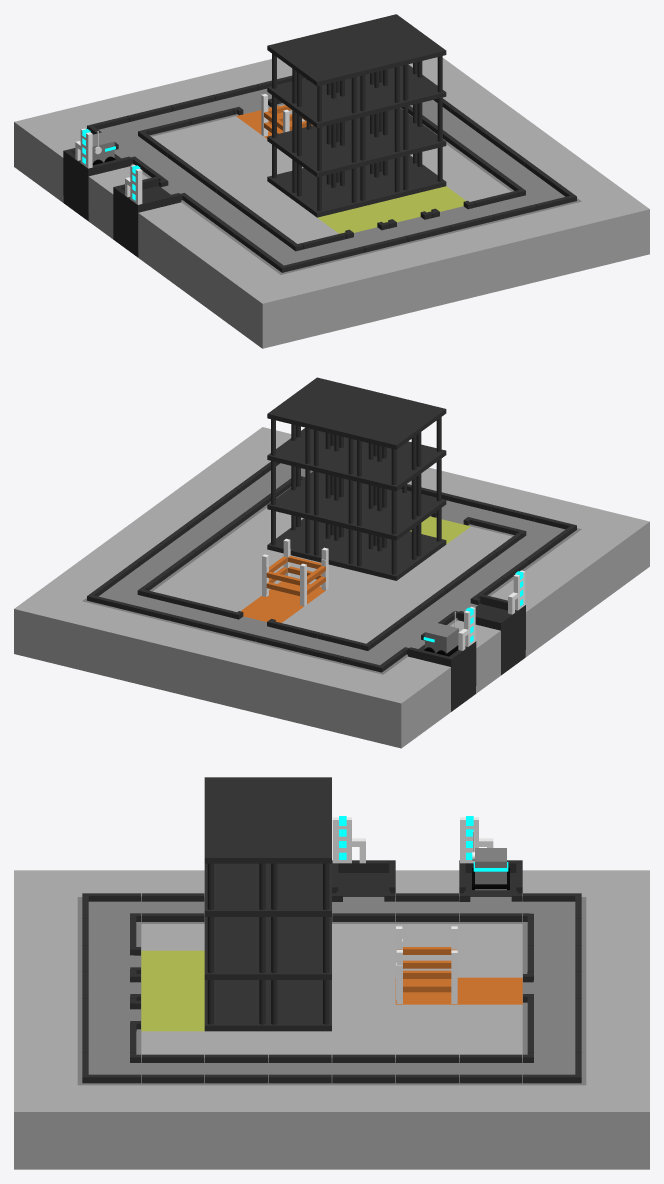
File: MiniWarehouseScene.gltf
The picture shows the model from 3 angles, top to bottom: view 1: azimuth 30°, elevation 25°; view 2: azimuth 150°, elevation 25°; view 3: azimuth 270°, elevation 25°; orthographic projection. The views are drawn at different scales.
Visible parts, largest first — view 1: Cube (7) (×6), Cube (2) (×4), Cube (5) (×4), Cube (×4), FloorCell (85), FloorCell (61), FloorCell (66), FloorCell (64), FloorCell (63), FloorCell (62), FloorCell (67), FloorCell (68) (+62 smaller); view 2: Cube (7) (×6), Cube (2) (×4), FloorCell (80), Cube (5) (×4), Cube (×4), FloorCell (5), FloorCell (6), FloorCell (3), FloorCell (4), FloorCell (7), FloorCell (2), FloorCell (1) (+67 smaller); view 3: Cube (7) (×6), Cube (2) (×4), Cube (5) (×4), Cube (×4), Rail1 (×9), FloorCell (8), FloorCell (48), FloorCell (53), FloorCell (31), FloorCell, FloorCell (40), FloorCell (74) (+76 smaller).
Part boxes in pixels (x1,y1,x2,y2): Cube (7) (×6): (267,14,446,86); Cube (2) (×4): (267,124,446,177); Cube (5) (×4): (267,75,446,127); Cube (×4): (267,164,446,217); FloorCell (85): (237,275,305,348); FloorCell (61): (324,254,391,327); FloorCell (66): (453,222,520,295); FloorCell (64): (410,233,477,306); FloorCell (63): (367,243,434,316); FloorCell (62): (281,264,348,337); FloorCell (67): (539,201,606,275); FloorCell (68): (582,191,649,264); Cube (7) (×6): (267,377,446,449); Cube (2) (×4): (267,487,446,540); FloorCell (80): (358,675,426,748); Cube (5) (×4): (267,438,446,491); Cube (×4): (267,528,446,580); FloorCell (5): (229,643,296,716); FloorCell (6): (315,664,382,737); FloorCell (3): (143,622,210,695); FloorCell (4): (186,633,253,706); FloorCell (7): (272,654,339,727); FloorCell (2): (100,612,167,685); FloorCell (1): (57,601,124,674); Cube (7) (×6): (204,777,331,863); Cube (2) (×4): (204,920,331,979); Cube (5) (×4): (204,863,331,916); Cube (×4): (204,980,331,1031); Rail1 (×9): (82,913,522,1083); FloorCell (8): (522,1085,586,1169); FloorCell (48): (204,1085,268,1169); FloorCell (53): (77,1085,141,1169); FloorCell (31): (395,1085,459,1169); FloorCell: (586,1085,649,1169); FloorCell (40): (268,1085,331,1169); FloorCell (74): (141,1085,204,1169).
Size of the model in its own units: 9.01 by 4.01 by 10.
